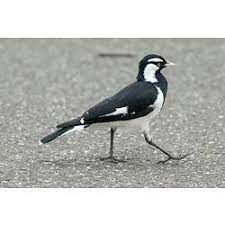Walking: (24, 43, 210, 179)
